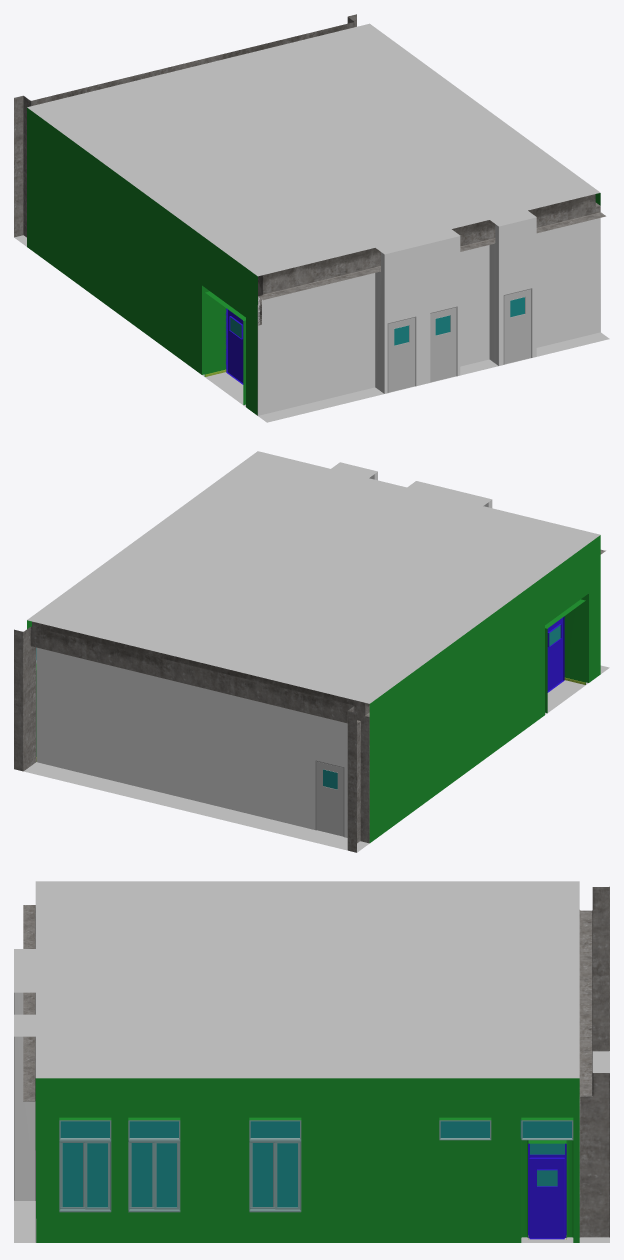
Rendered from laboratorio base geo 002.FBX.
3 renders of one model, top to bottom at view 1: azimuth 30°, elevation 25°; view 2: azimuth 150°, elevation 25°; view 3: azimuth 270°, elevation 25°, orthographic. The views are drawn at different scales.
Parts seen in each view (by area): view 1: Box033, Box001, Box035, Object001, Box004, Plane001, Plane003, Plane002, Plane012; view 2: Box033, Box001, Box035, Object001, Box004, Plane004, Plane001; view 3: Box033, Object002, Box035, Box001, Object009, Plane013, Object007, Object011, Object001, Box031, SlidingWindow001, SlidingWindow002 (+6 smaller).
Boxes of the visible parts, x1,y1,x2,y2 form: Box033: (27, 23, 600, 276); Box001: (27, 107, 600, 415); Box035: (14, 14, 605, 325); Object001: (14, 235, 609, 422); Box004: (202, 285, 245, 404); Plane001: (504, 289, 531, 364); Plane003: (388, 317, 415, 392); Plane002: (430, 307, 456, 382); Plane012: (226, 308, 243, 384); Box033: (27, 451, 600, 703); Box001: (36, 472, 600, 842); Box035: (14, 549, 605, 852); Object001: (23, 665, 609, 852); Box004: (545, 593, 588, 713); Plane004: (316, 761, 343, 836); Plane001: (547, 616, 564, 692); Box033: (14, 881, 579, 1078); Object002: (45, 1078, 579, 1242); Box035: (23, 886, 609, 1237); Box001: (14, 992, 45, 1242); Object009: (131, 1143, 176, 1207); Plane013: (528, 1158, 564, 1239); Object007: (252, 1143, 297, 1207); Object011: (62, 1143, 107, 1207); Object001: (14, 1051, 609, 1242); Box031: (521, 1140, 573, 1237); SlidingWindow001: (249, 1140, 301, 1212); SlidingWindow002: (128, 1140, 180, 1212).
Bounding box in the file's own units: 1095 × 420 × 1380.
